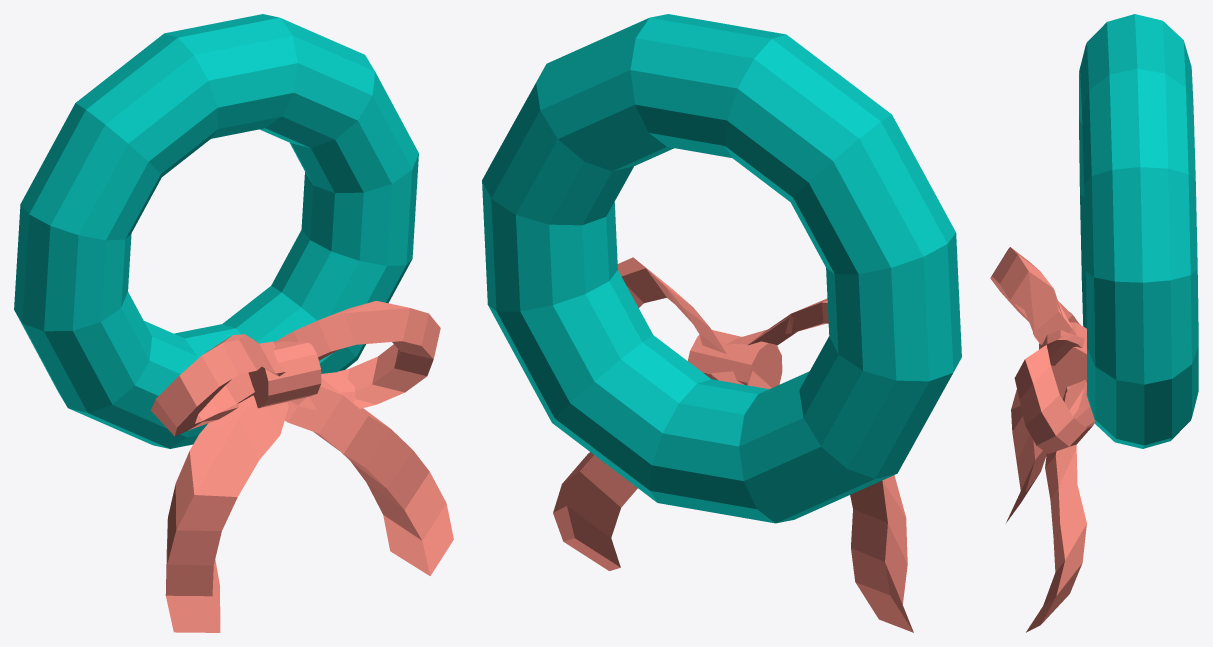
File: wreath.glb
3 views of the same model, side by side, from view 1: azimuth 30°, elevation 25°; view 2: azimuth 150°, elevation 25°; view 3: azimuth 270°, elevation 25° (orthographic). The views are drawn at different scales.
Parts seen in each view (by area): view 1: mesh_1893848451_material_11___11576_0, mesh_318627445_material_8___11576_0, mesh_1575702654_material_8___11576_0, mesh_1723971897_material_8___11576_0, mesh_1671492759_material_8___11576_0, mesh_748821950_material_8___11576_0; view 2: mesh_1893848451_material_11___11576_0, mesh_318627445_material_8___11576_0, mesh_1575702654_material_8___11576_0, mesh_748821950_material_8___11576_0, mesh_1723971897_material_8___11576_0, mesh_1671492759_material_8___11576_0; view 3: mesh_1893848451_material_11___11576_0, mesh_1575702654_material_8___11576_0, mesh_1723971897_material_8___11576_0, mesh_1671492759_material_8___11576_0, mesh_318627445_material_8___11576_0, mesh_748821950_material_8___11576_0.
Boxes of the visible parts, x1,y1,x2,y2 form: mesh_1893848451_material_11___11576_0: (14,14,418,448); mesh_318627445_material_8___11576_0: (165,395,288,632); mesh_1575702654_material_8___11576_0: (284,380,453,575); mesh_1723971897_material_8___11576_0: (275,301,440,410); mesh_1671492759_material_8___11576_0: (151,334,285,436); mesh_748821950_material_8___11576_0: (248,341,321,408); mesh_1893848451_material_11___11576_0: (482,14,961,523); mesh_318627445_material_8___11576_0: (850,475,913,632); mesh_1575702654_material_8___11576_0: (553,452,637,570); mesh_748821950_material_8___11576_0: (688,330,782,387); mesh_1723971897_material_8___11576_0: (617,257,726,353); mesh_1671492759_material_8___11576_0: (711,298,828,389); mesh_1893848451_material_11___11576_0: (1079,14,1198,448); mesh_1575702654_material_8___11576_0: (1026,379,1086,632); mesh_1723971897_material_8___11576_0: (1014,335,1095,454); mesh_1671492759_material_8___11576_0: (990,247,1080,344); mesh_318627445_material_8___11576_0: (1006,389,1046,522); mesh_748821950_material_8___11576_0: (1039,322,1086,398).
Size of the model in its own units: 74.39 by 98.79 by 35.47.
